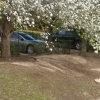Car: (11, 27, 57, 57)
